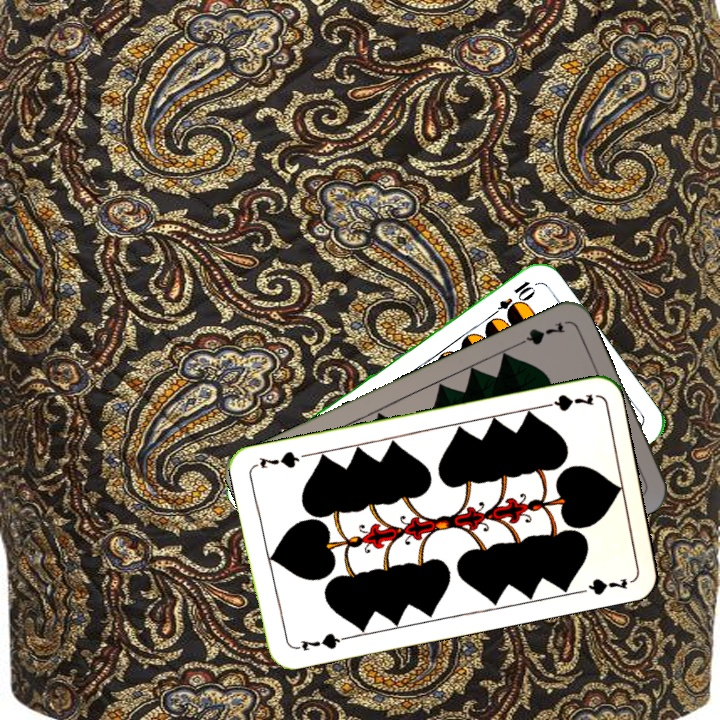E10: (485, 276, 537, 322)
G7: (510, 318, 568, 350), (537, 390, 597, 414), (290, 629, 349, 653)
